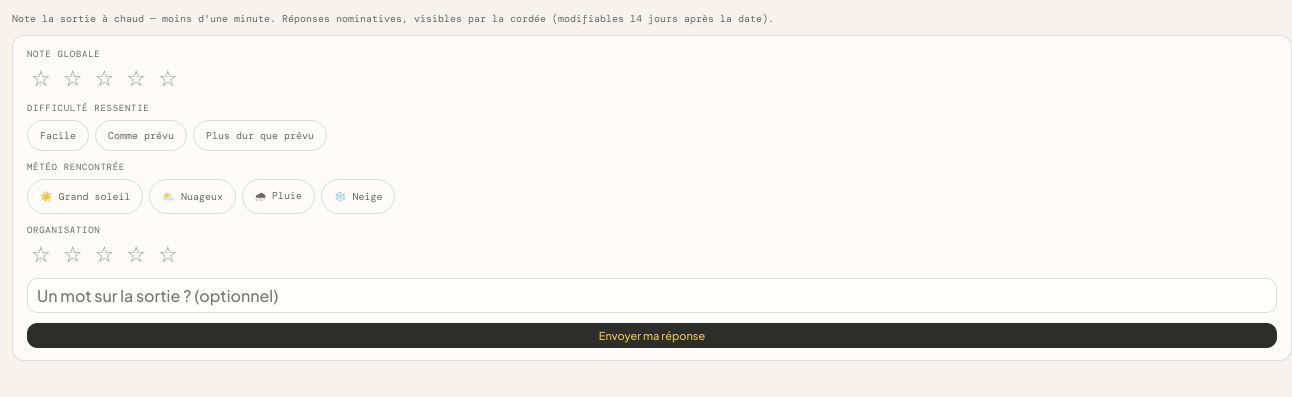
SurveyTab › affiche le refus d’écriture Firestore à l’écran, pas seulement en console
Click the button named "Note globale : 5 sur 5".
click(168, 79)  # box left=154, top=66, right=182, bottom=92
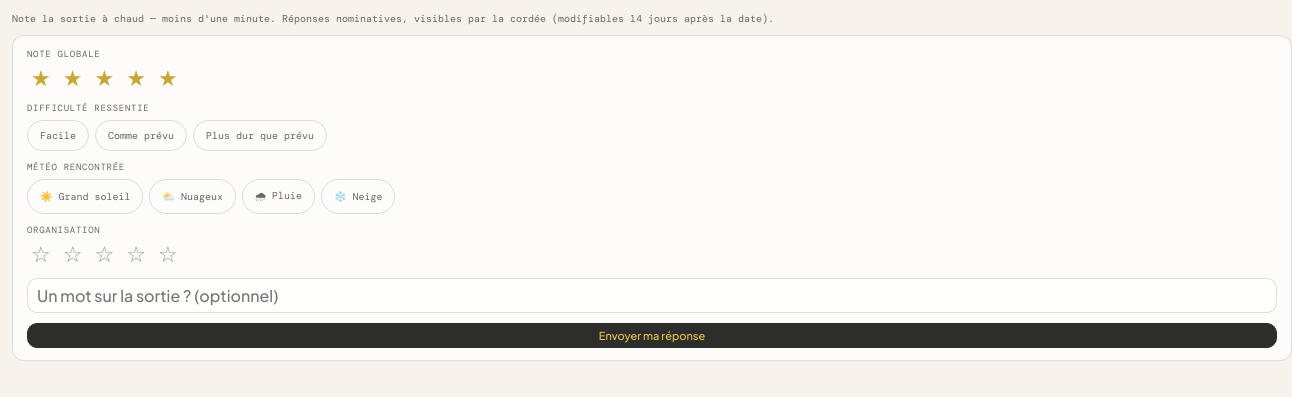
Click the button "Plus dur que prévu".
click(260, 136)  # box left=193, top=120, right=327, bottom=151
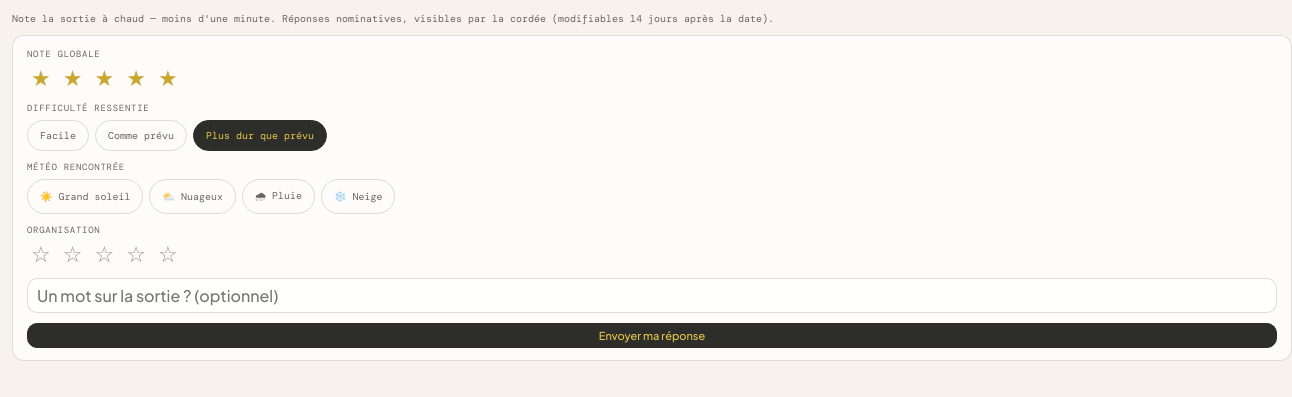
Click the button "☀️ Grand soleil".
click(85, 196)  # box left=27, top=179, right=144, bottom=214
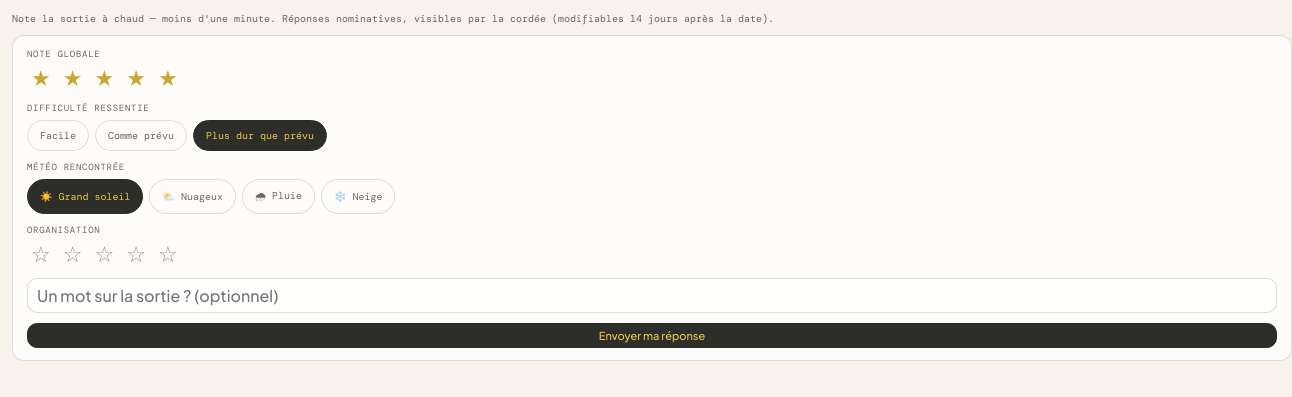
Click the button named "Organisation : 4 sur 5".
click(136, 255)  # box left=122, top=242, right=150, bottom=268
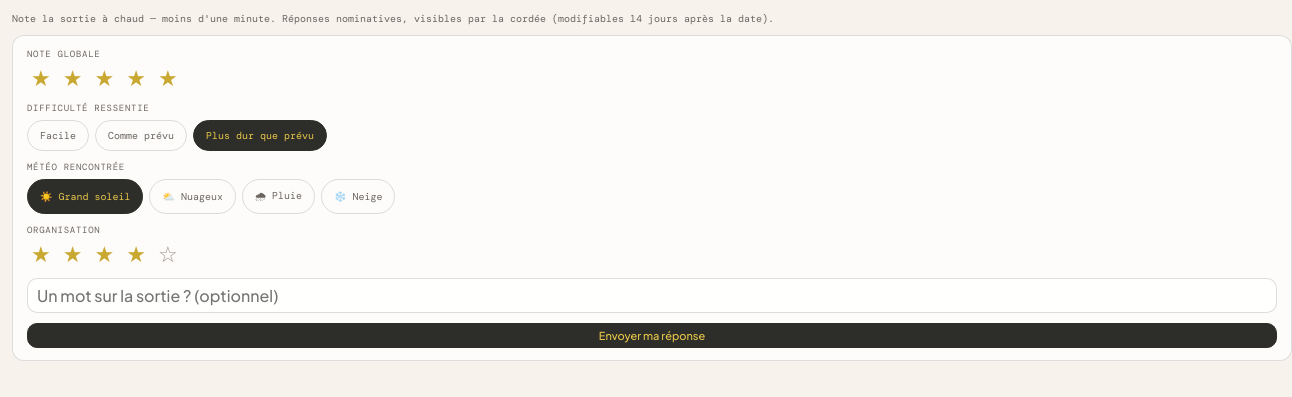
Click the button "Envoyer ma réponse".
click(652, 336)  # box left=27, top=323, right=1277, bottom=348
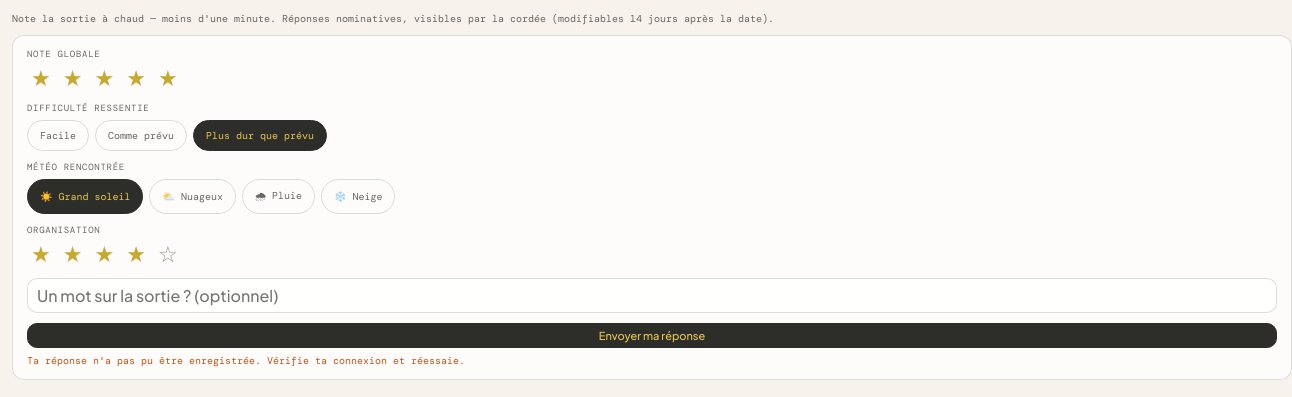
Expected: the text "Ta réponse n'a pas pu être enregistrée. Vérifie ta connexion et réessaie." is shown, left=27, top=354, right=465, bottom=367
